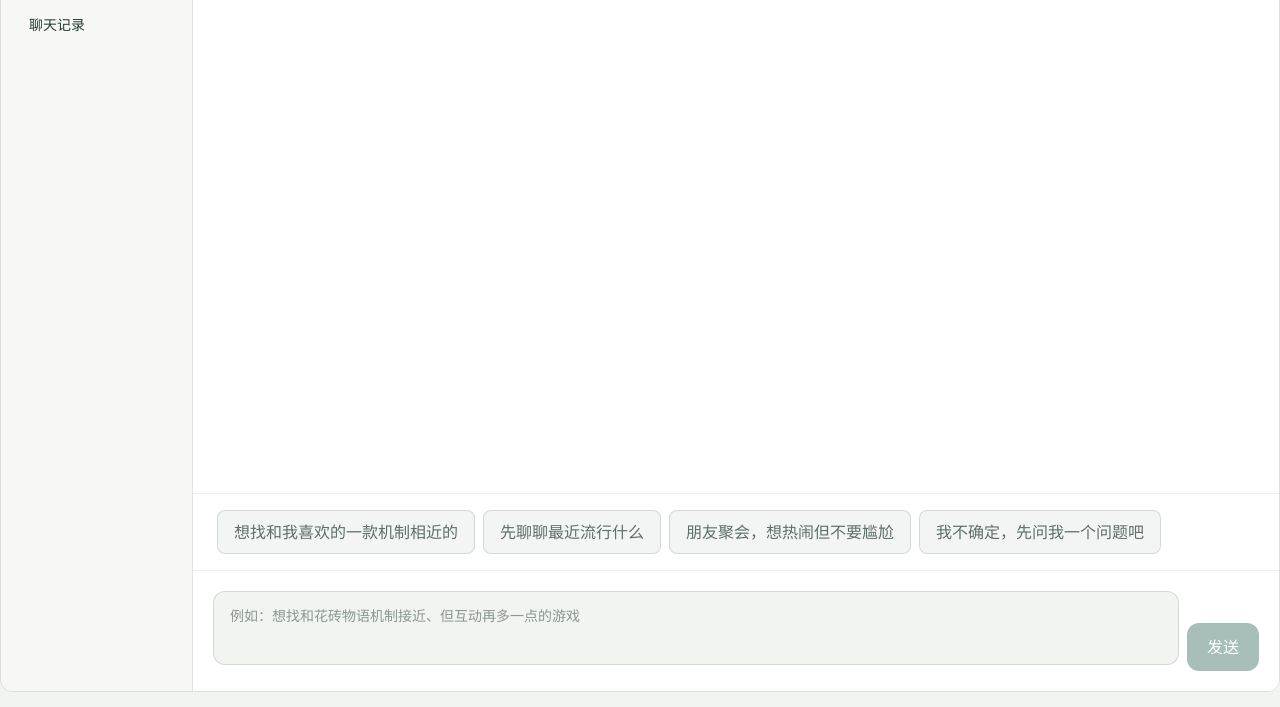
Test: GameRecommendationAgent › keeps a failed request visible and lets the player retry it
(page scrolled)
Type "想找四个人玩的合作游戏" into the text box with placeholder "例如：想找和花砖物语机制接近、但互动再多一点的游戏".
click(696, 628); type("想找四个人玩的合作游戏")  # box [213,591,1179,665]
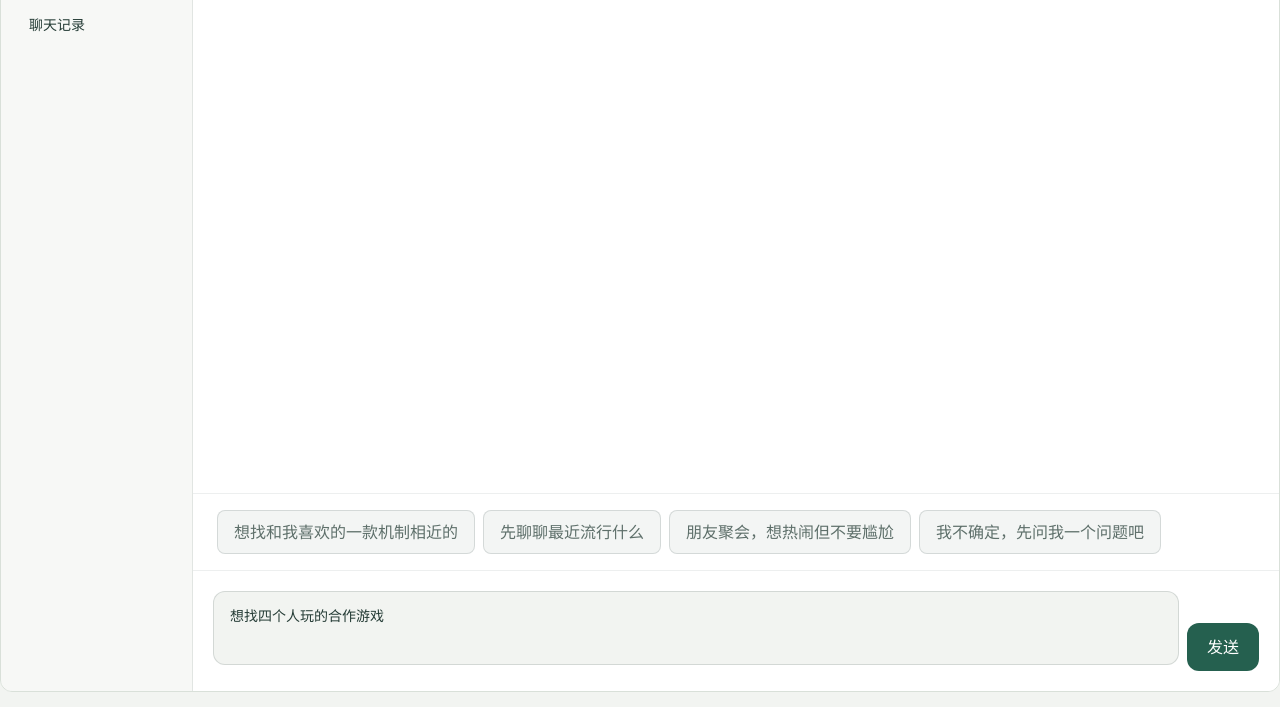
Submit the form, box [193,570,1279,691]
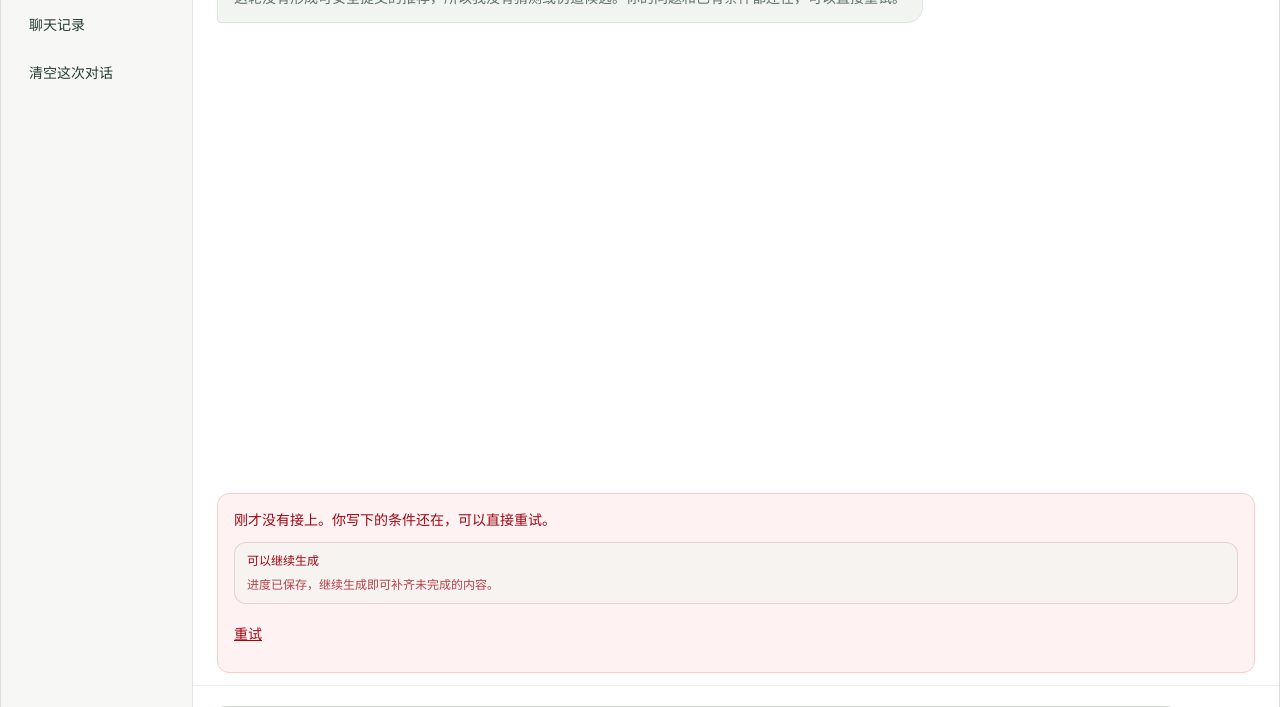
expect the message "刚才没有接上。你写下的条件还在，可以直接重试。 可以继续生成 进度已保存，继续生成即可补齐未完成的内容。 重试" is shown: met, box [217,493,1255,673]
expect the button "重试" is shown: met
Click the button "重试".
click(248, 634)  # box [234,612,262,656]
(page scrolled)
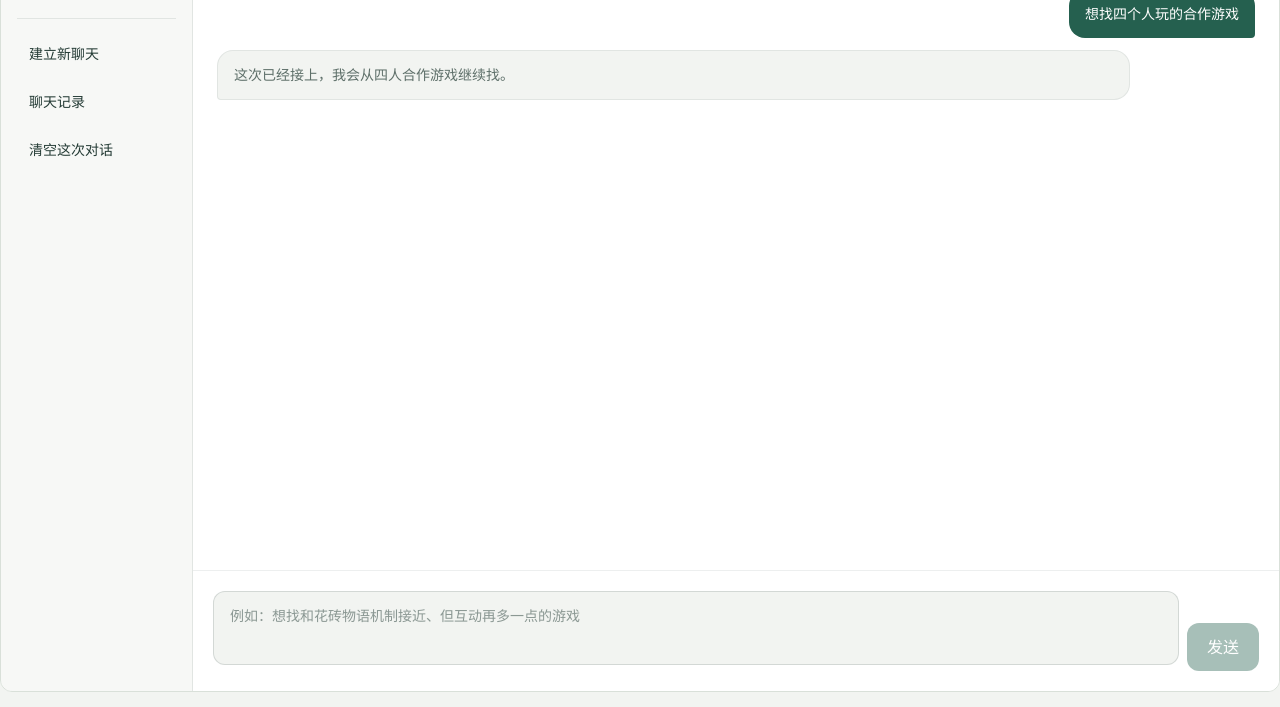
expect the element with test id "assistant-conversation-turn" reads "这次已经接上，我会从四人合作游戏继续找。": met, box [234,65,514,84]
